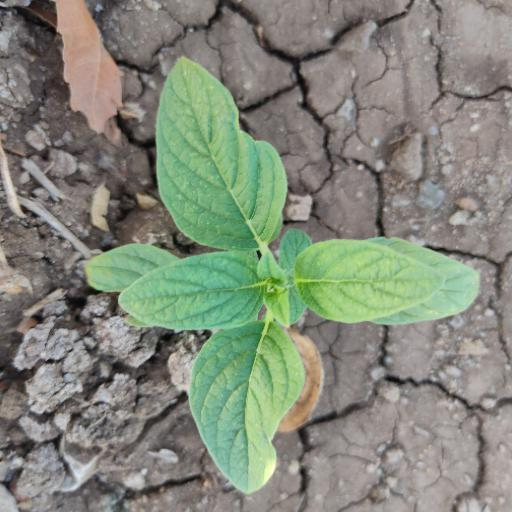crop: (72, 53, 465, 491)
